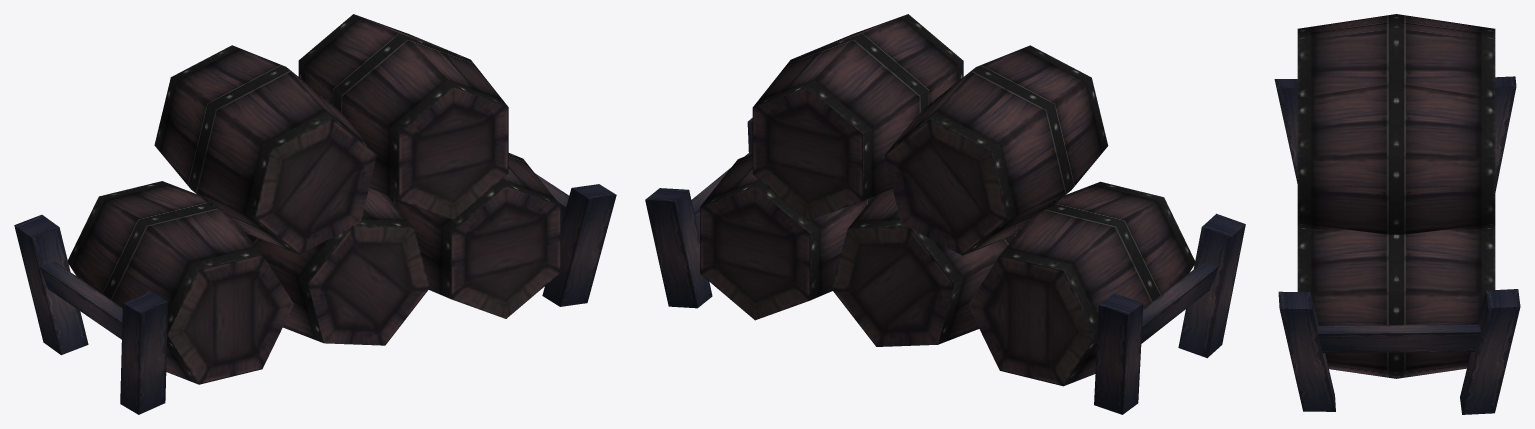
File: Barrel_Stack.fbx
3 views of the same model, side by side, from view 1: azimuth 30°, elevation 25°; view 2: azimuth 150°, elevation 25°; view 3: azimuth 270°, elevation 25° (orthographic).
Parts seen in each view (by area): view 1: Barrel_Stack; view 2: Barrel_Stack; view 3: Barrel_Stack.
Part boxes in pixels (x1,y1,x2,y2): Barrel_Stack: [14, 14, 616, 414]; Barrel_Stack: [645, 14, 1245, 414]; Barrel_Stack: [1274, 14, 1520, 414].
Bounding box in the file's own units: 174 × 94.48 × 77.87.
1 material, 1 textured.
